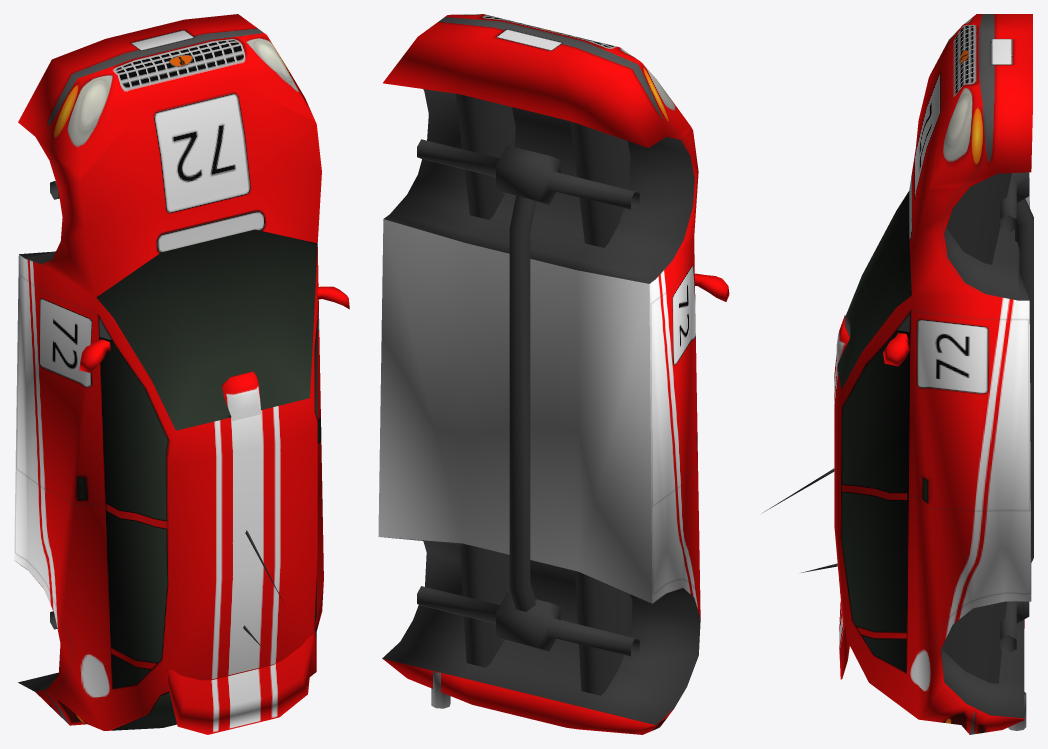
File: nimrud.obj
3 renders of one model, left to right at view 1: azimuth 30°, elevation 25°; view 2: azimuth 150°, elevation 25°; view 3: azimuth 270°, elevation 25°, orthographic. The views are drawn at different scales.
Visible parts, largest first — view 1: body_Box01.010; view 2: body_Box01.010; view 3: body_Box01.010.
Boxes of the visible parts, x1=… form: body_Box01.010: x1=14, y1=14, x2=349, y2=734; body_Box01.010: x1=378, y1=14, x2=729, y2=734; body_Box01.010: x1=763, y1=14, x2=1033, y2=734.
Size of the model in its own units: 1.77 by 4.15 by 1.61.
1 material, 1 textured.
